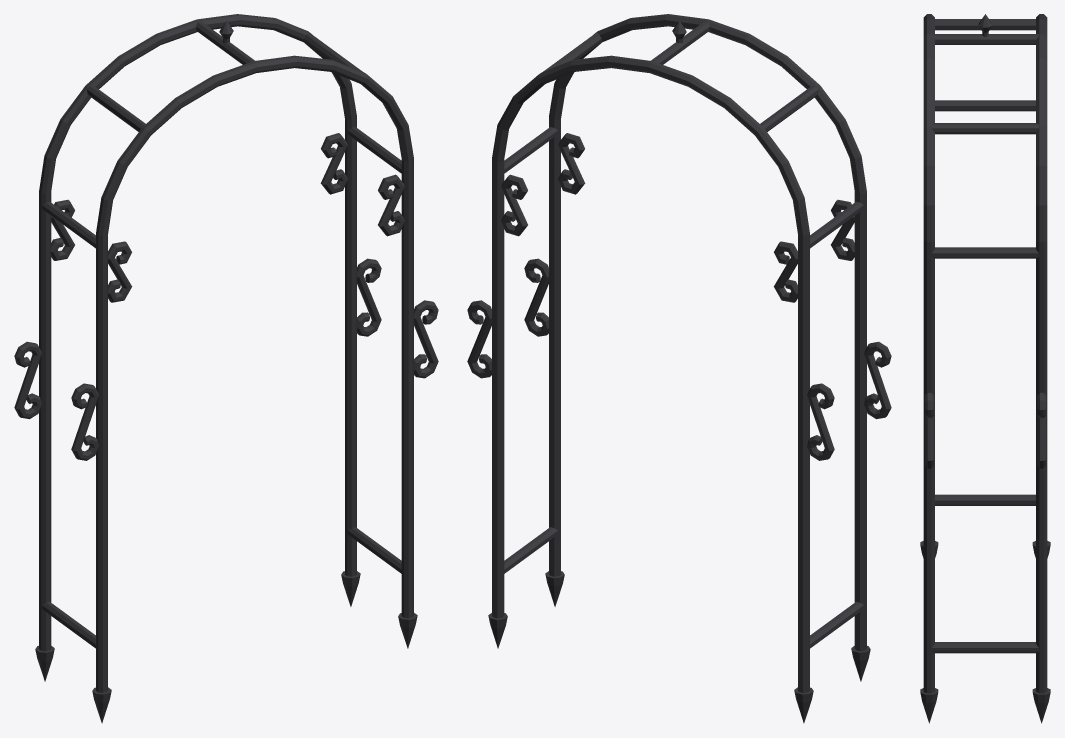
File: FMS_Garden_Arch_Iron.fbx
3 renders of one model, left to right at view 1: azimuth 30°, elevation 25°; view 2: azimuth 150°, elevation 25°; view 3: azimuth 270°, elevation 25°, orthographic.
Visible parts, largest first — view 1: FMS_Garden_Arch_Iron_Body; view 2: FMS_Garden_Arch_Iron_Body; view 3: FMS_Garden_Arch_Iron_Body.
Boxes of the visible parts, x1,y1,x2,y2 form: FMS_Garden_Arch_Iron_Body: (14, 14, 438, 723); FMS_Garden_Arch_Iron_Body: (467, 14, 891, 723); FMS_Garden_Arch_Iron_Body: (920, 14, 1050, 723).
Size of the model in its own units: 1.48 by 2.5 by 0.464.
